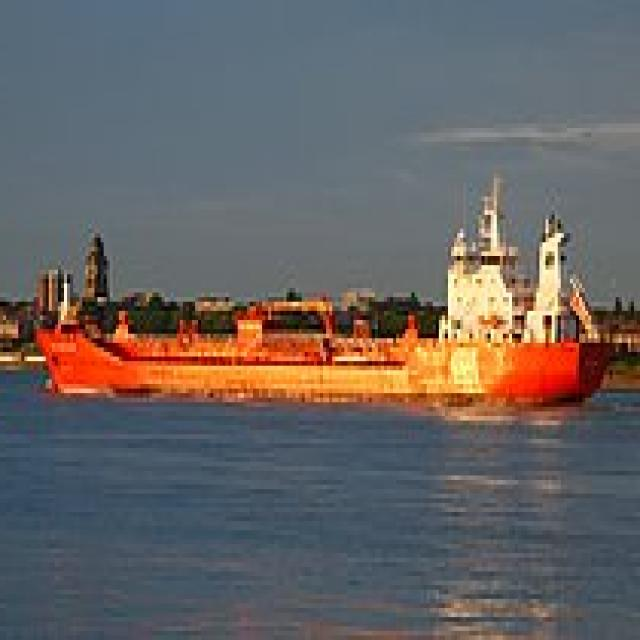Tanker: (36, 183, 622, 402)
